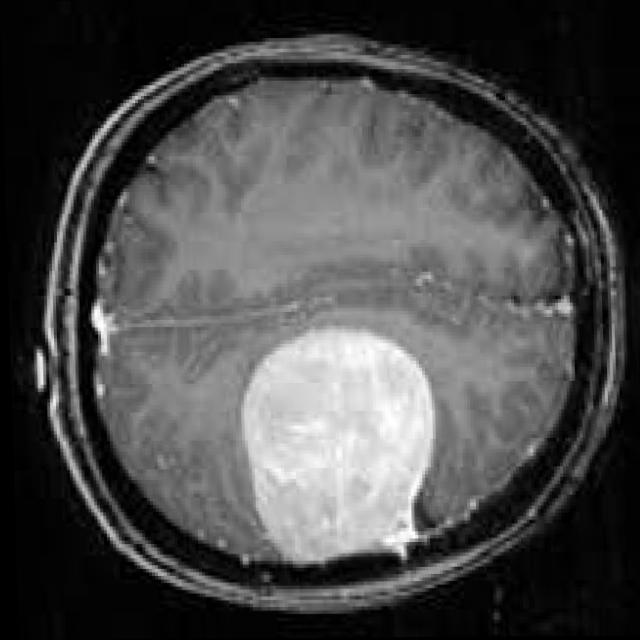Tumor: (236, 329, 431, 564)
